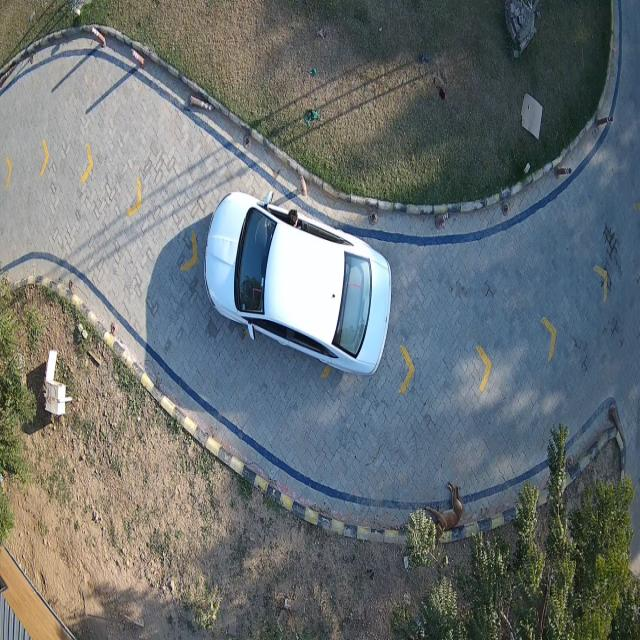car: (205, 191, 391, 374)
